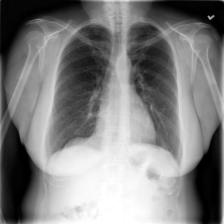normal: (39, 13, 189, 172)
